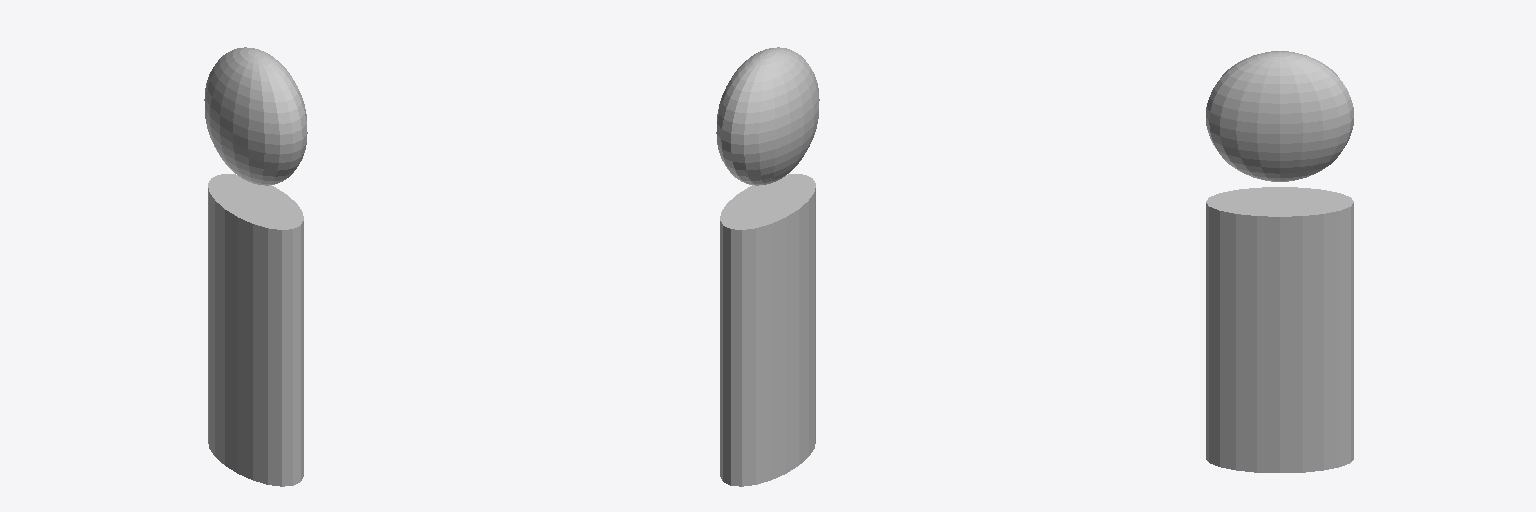
Rendered from letter3.obj.
3 views of the same model, side by side, from view 1: azimuth 30°, elevation 25°; view 2: azimuth 150°, elevation 25°; view 3: azimuth 270°, elevation 25° (orthographic).
Parts seen in each view (by area): view 1: pCylinder1, pSphere1; view 2: pCylinder1, pSphere1; view 3: pCylinder1, pSphere1.
Part boxes in pixels (x1,y1,x2,y2): pCylinder1: (208,174,303,486); pSphere1: (204,47,307,185); pCylinder1: (720,174,815,486); pSphere1: (716,47,819,185); pCylinder1: (1206,187,1353,472); pSphere1: (1206,51,1353,181).
Size of the model in its own units: 1.13 by 6.01 by 2.